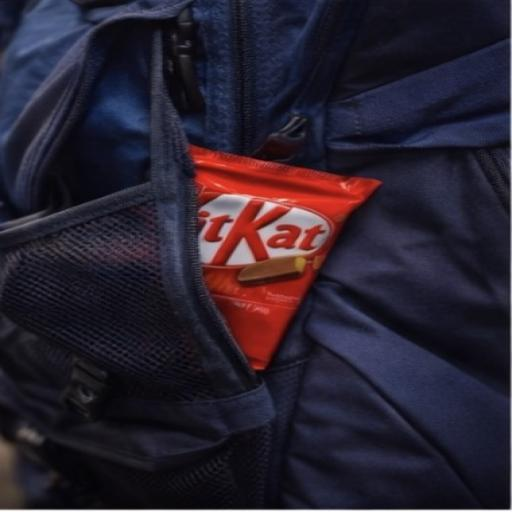kitkat: (106, 120, 402, 445)
